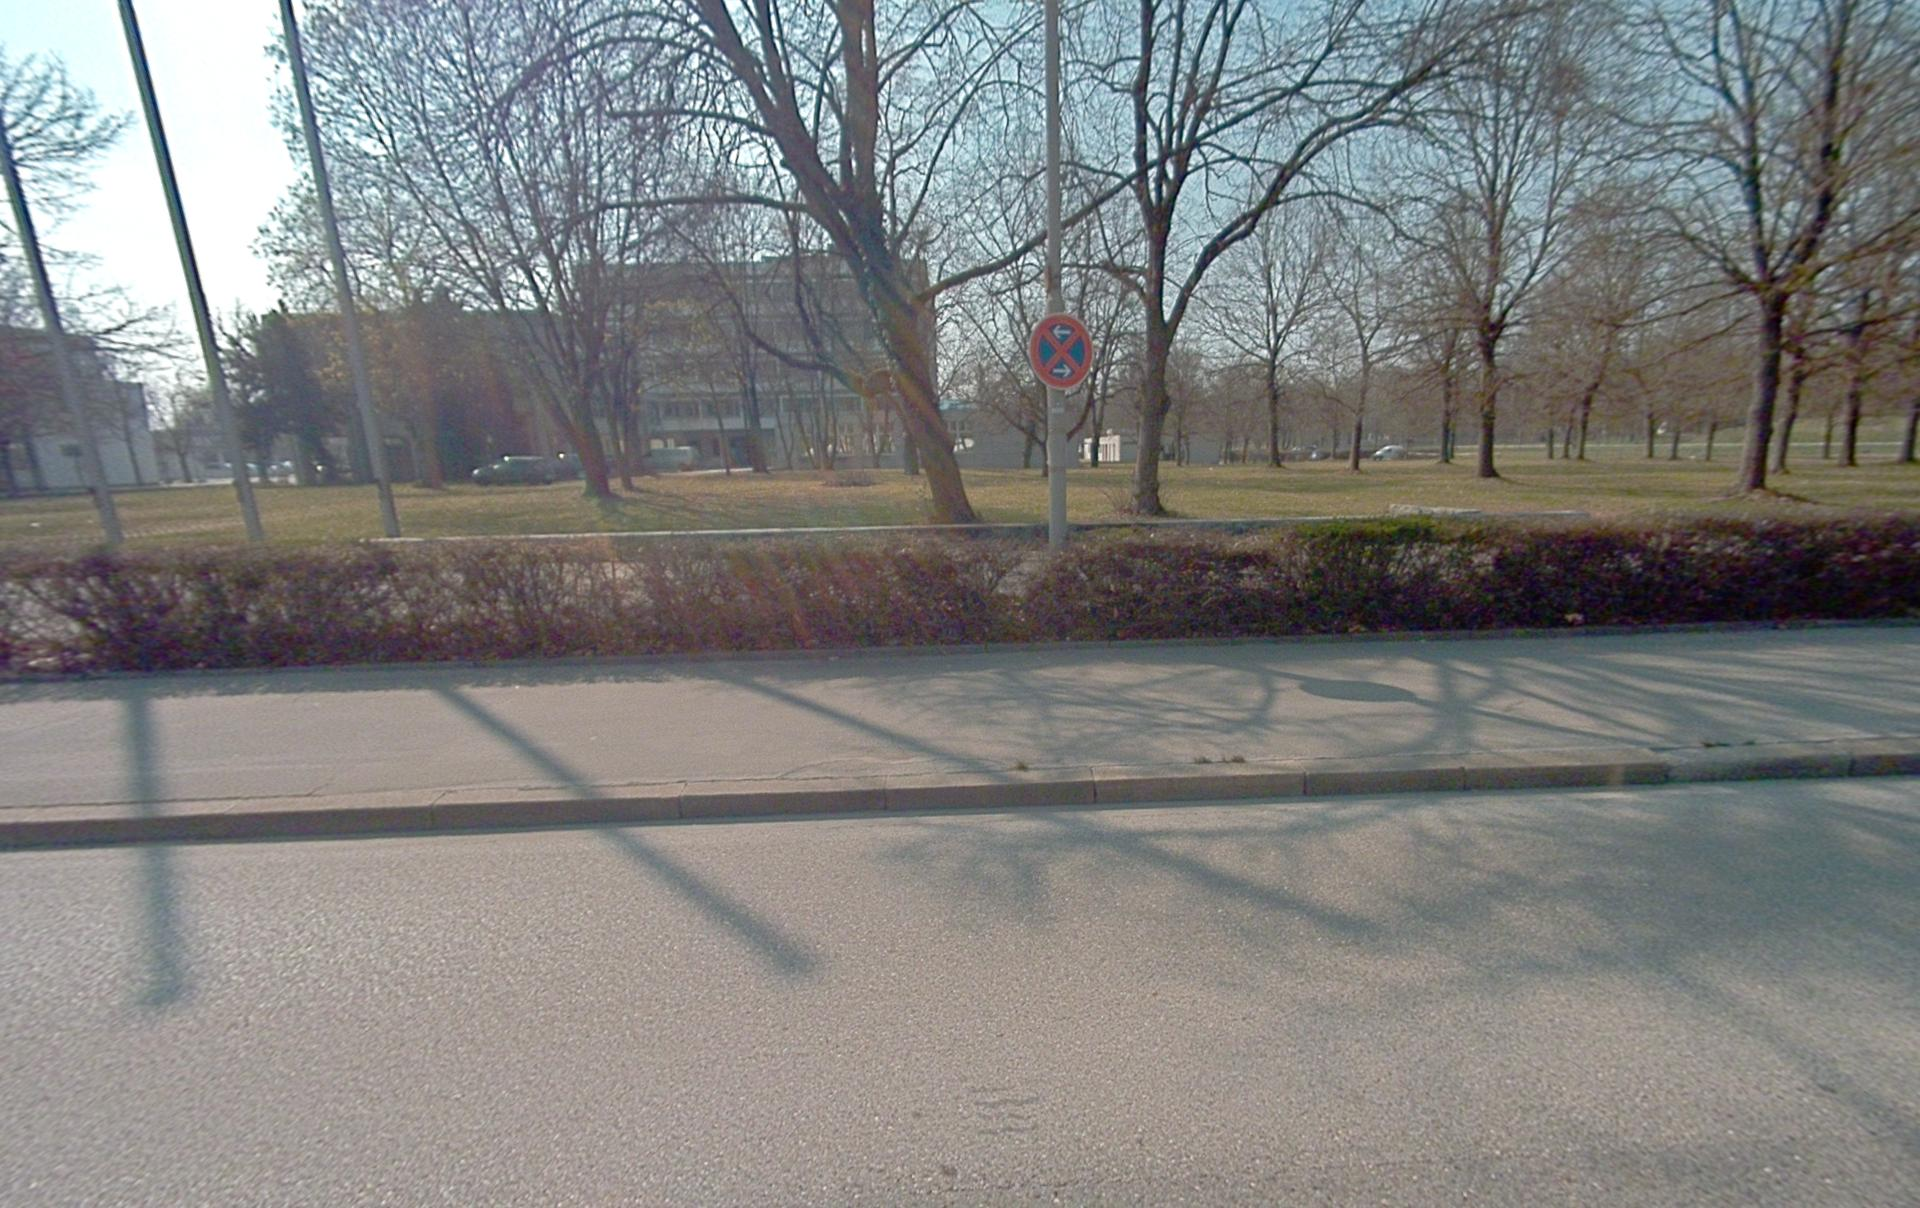car: (472, 454, 582, 486), (472, 455, 557, 486), (1373, 444, 1405, 461)
traffic sign: (1028, 313, 1094, 390)
